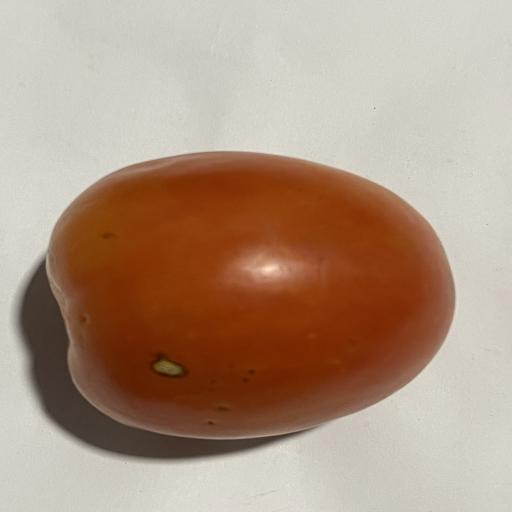unripe: (47, 152, 454, 439)
